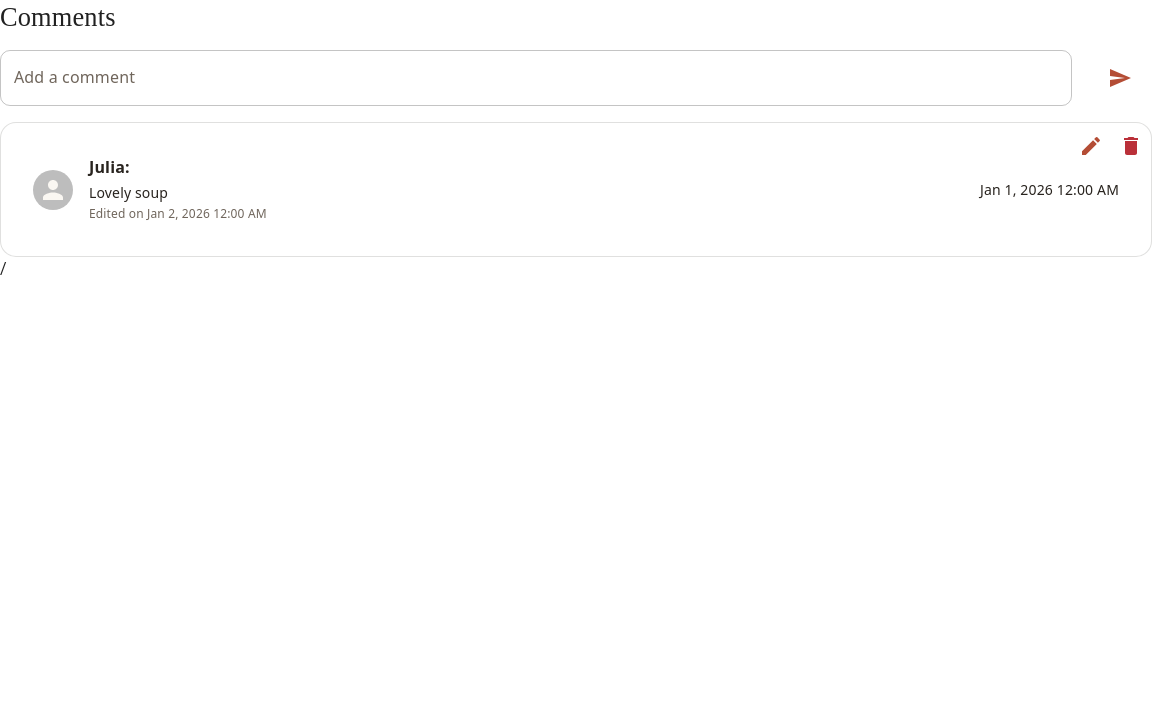
it: rejected comments preserve the draft and editing errors keep the dialog open
In the text box labelled "Add a comment": {"x": 536, "y": 78} [14, 67, 1058, 90], type "My rejected draft"
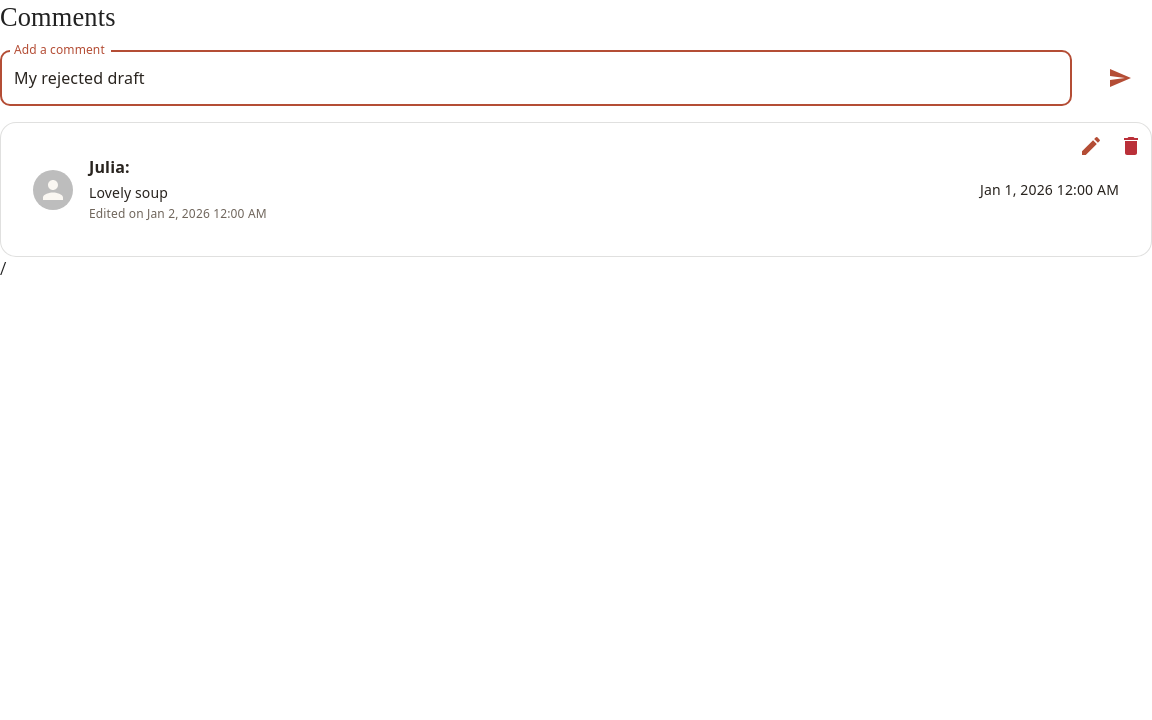
Click the button named "Submit": {"x": 1120, "y": 78} [1088, 56, 1151, 100]
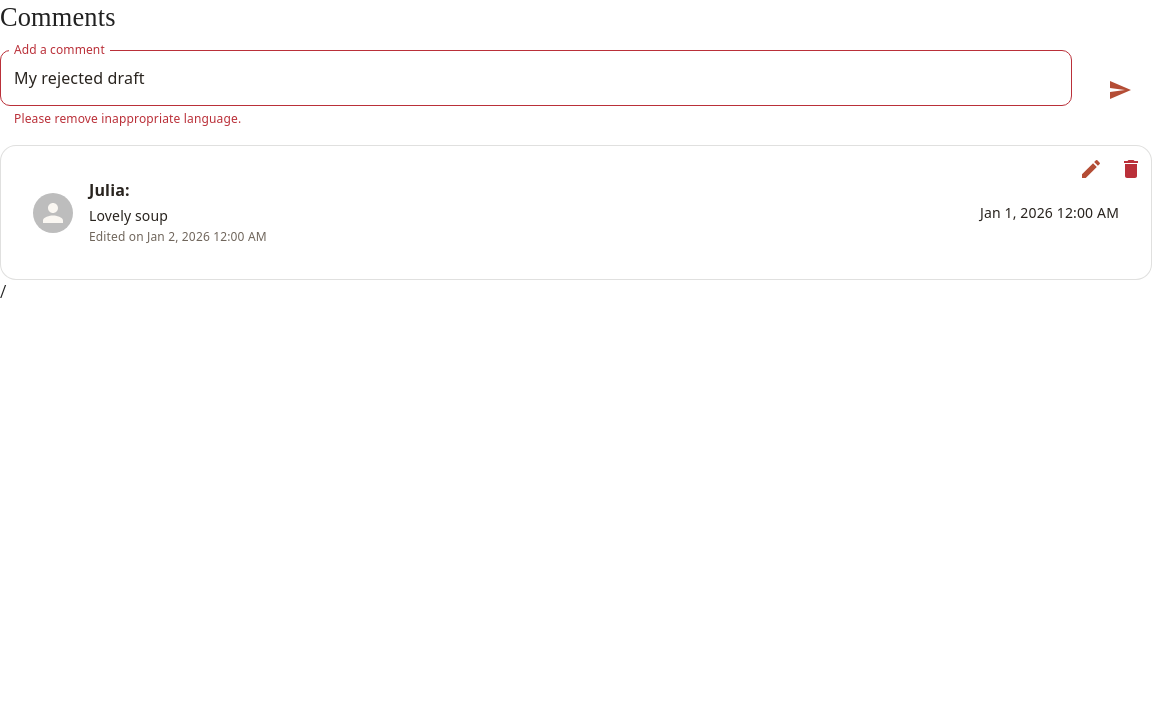
Result: the text "Please remove inappropriate language." is shown at [14, 110, 241, 127]
Click the button with test id "EditIcon": {"x": 1091, "y": 169} [1071, 149, 1111, 189]
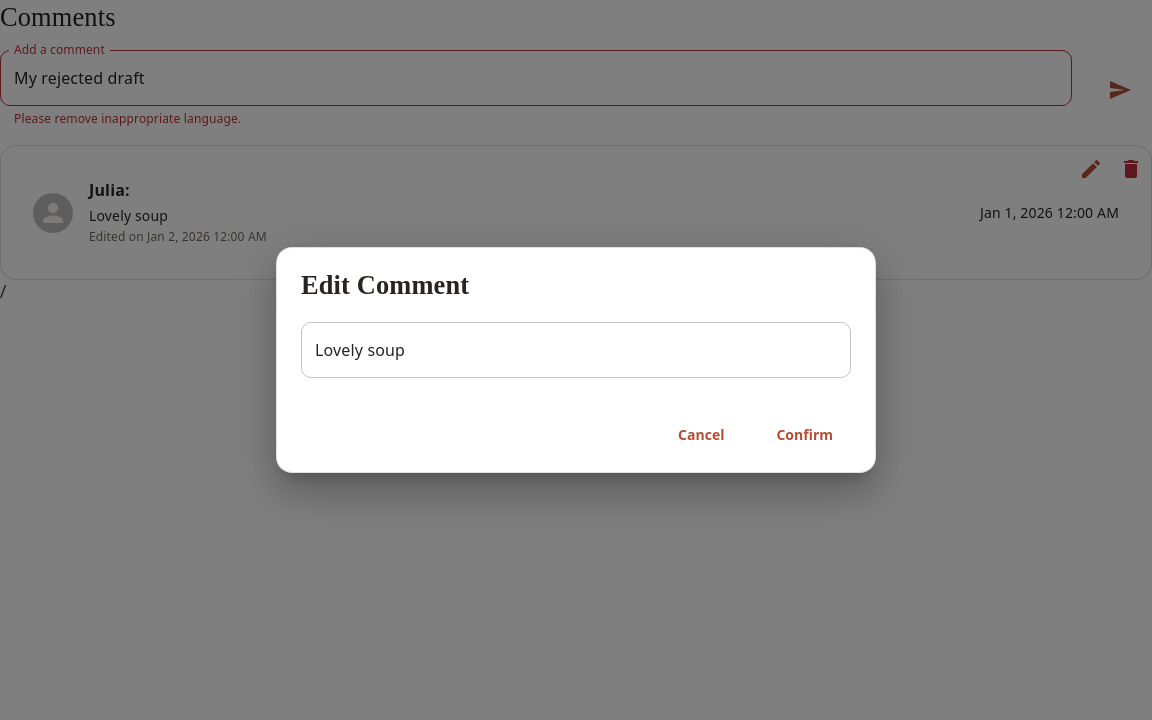
Replace the text in the text box with "Rejected edit": {"x": 576, "y": 350} [315, 339, 837, 362]
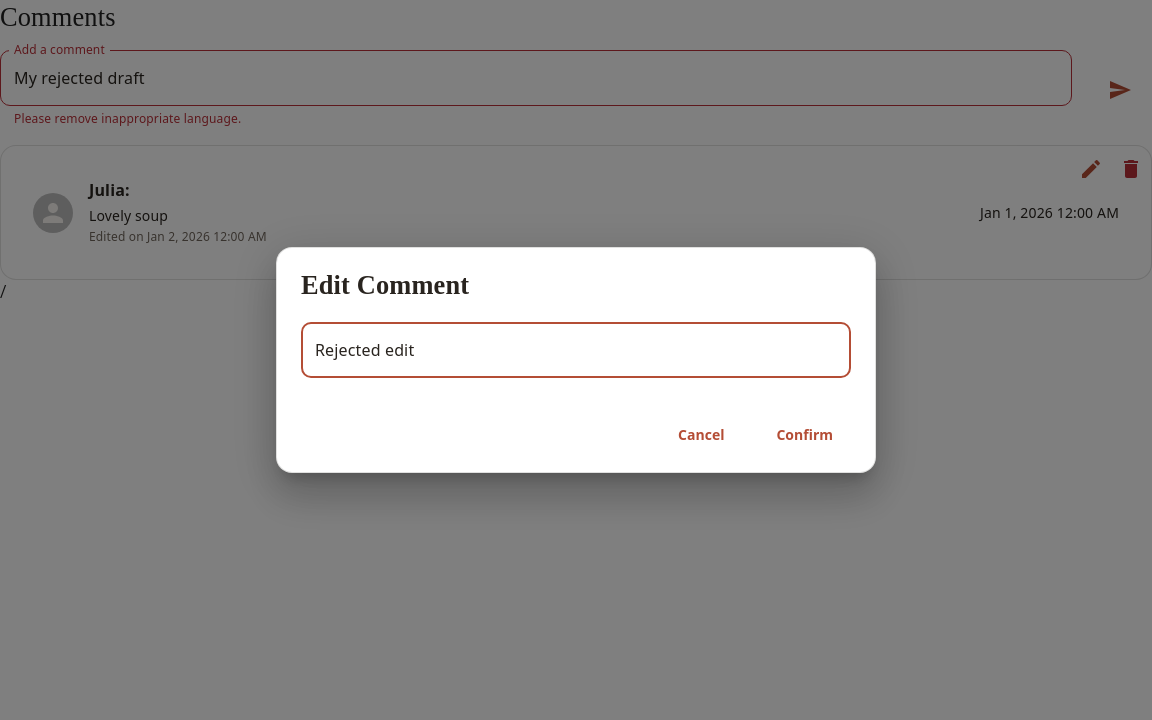
Click the button "Confirm": {"x": 805, "y": 435} [758, 414, 851, 456]
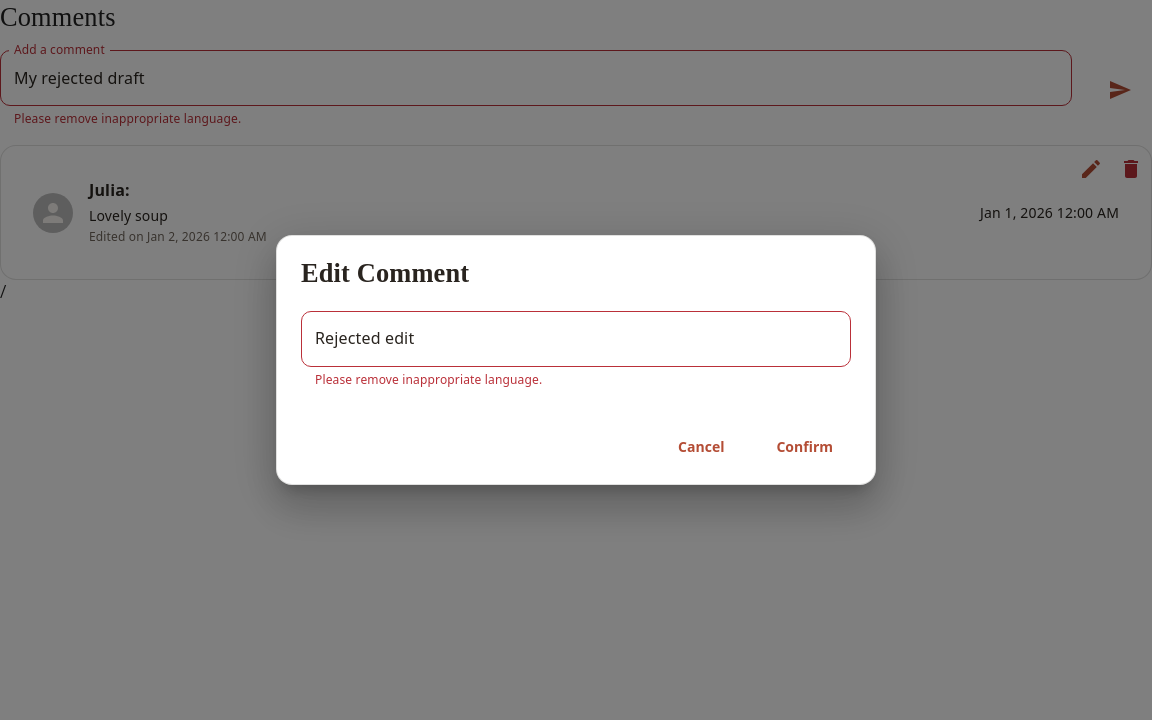
Result: the text "Please remove inappropriate language." is shown at [315, 371, 542, 388]
